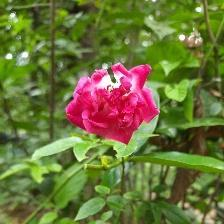rose: (64, 62, 163, 148)
